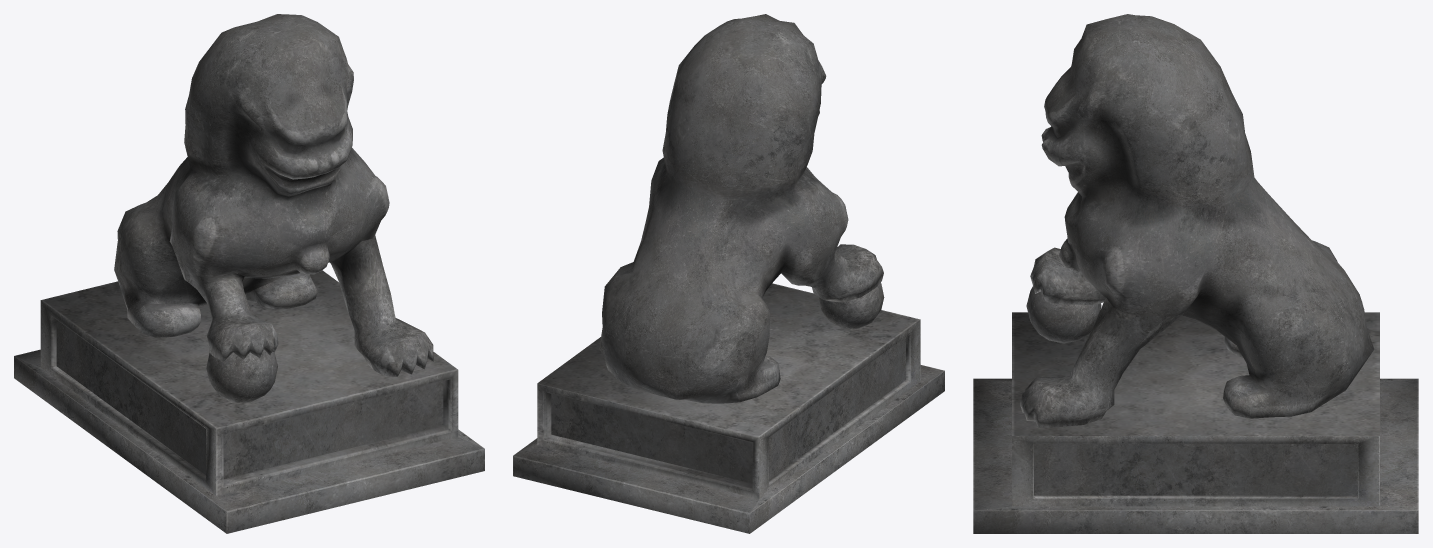
Rendered from Lion_1.FBX.
The picture shows the model from 3 angles, left to right: view 1: azimuth 30°, elevation 25°; view 2: azimuth 150°, elevation 25°; view 3: azimuth 270°, elevation 25°; orthographic projection. The views are drawn at different scales.
Visible parts, largest first — view 1: Lion_1; view 2: Lion_1; view 3: Lion_1.
Boxes of the visible parts, left/top/right/bottom form: Lion_1: left=14, top=14, right=484, bottom=533; Lion_1: left=513, top=14, right=944, bottom=533; Lion_1: left=973, top=14, right=1418, bottom=533.
Bounding box in the file's own units: 34.82 × 54.83 × 49.71.
